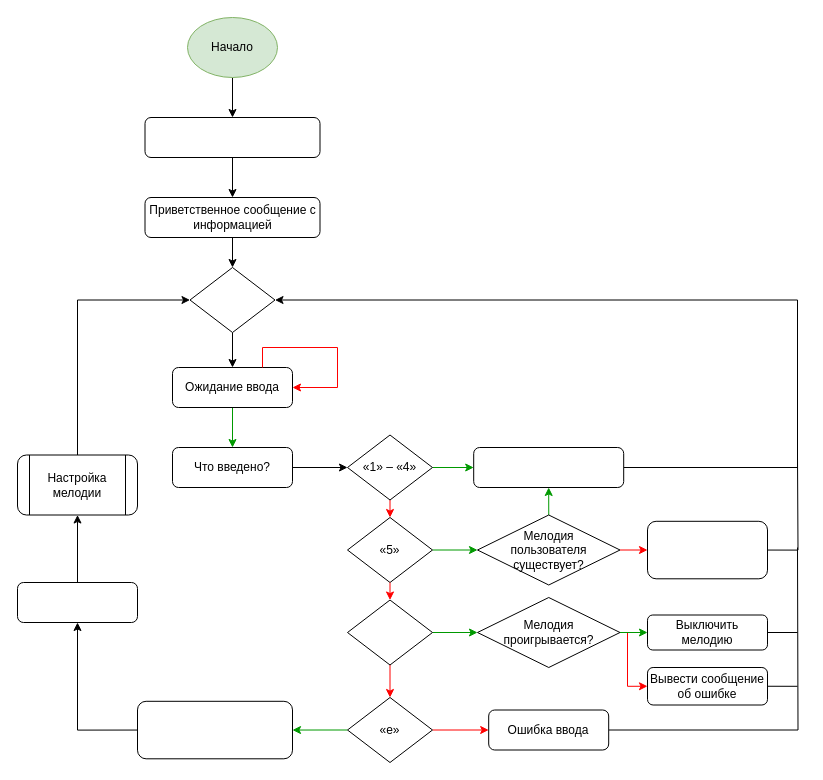
This 823x780 diagram has some shape labels left out. The centre of each missing label's shape, as x and y in pixels:
"while(1)" goes at pixel 232 299.
"«x»" goes at pixel 389 632.
"Инициализация библиотек" goes at pixel 232 137.
"Информация о режиме настройки мелодии пользователя" goes at pixel 214 729.
"Проигрывание сохраненных мелодий" goes at pixel 548 467.
"Смена раскладки" goes at pixel 77 602.
"Сообщить, что мелодии не существует" goes at pixel 707 549.
